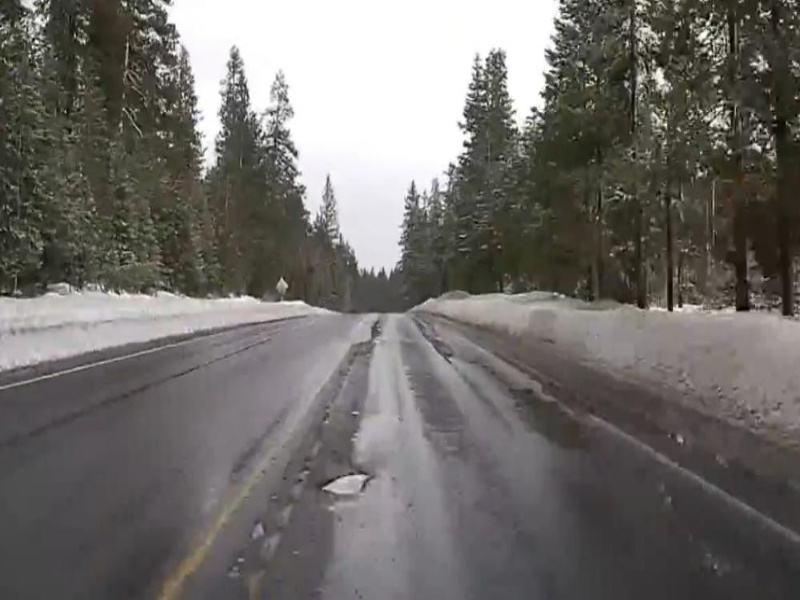pothole: (317, 464, 376, 497)
